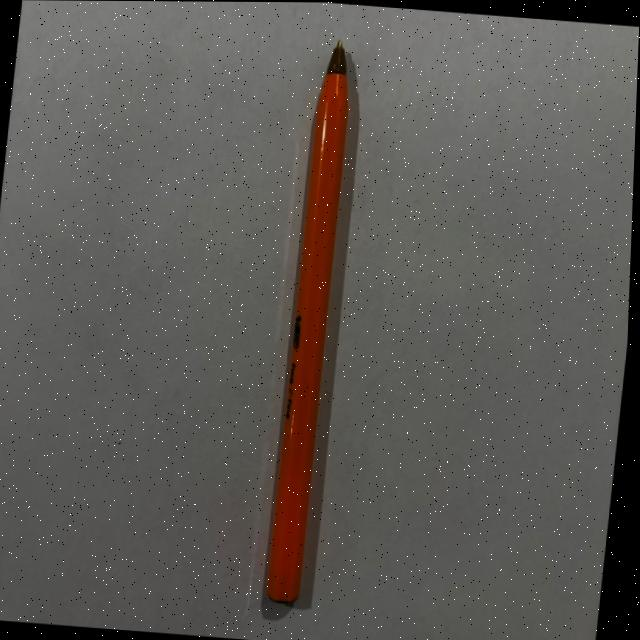pencil: (273, 37, 350, 603)
